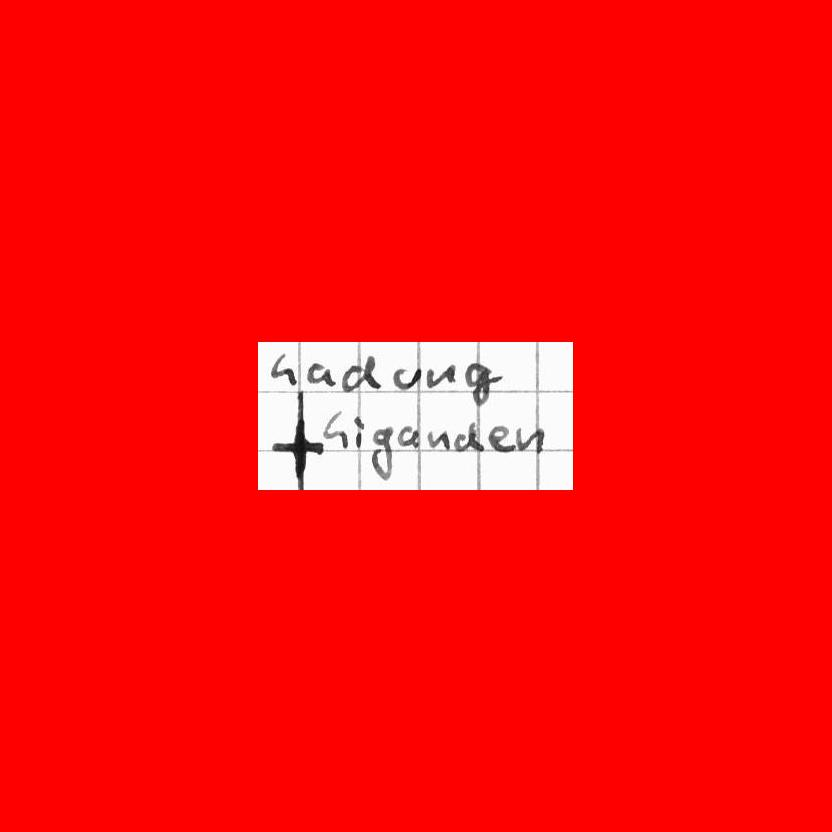Char: (272, 417, 324, 477), (462, 361, 503, 408), (340, 354, 379, 393), (369, 424, 393, 481), (323, 410, 351, 450), (269, 352, 297, 387), (515, 423, 545, 455), (454, 420, 483, 453), (424, 365, 456, 389), (307, 361, 335, 388), (488, 423, 513, 452), (393, 367, 421, 389), (397, 425, 420, 449), (427, 428, 451, 451), (352, 416, 365, 449)
